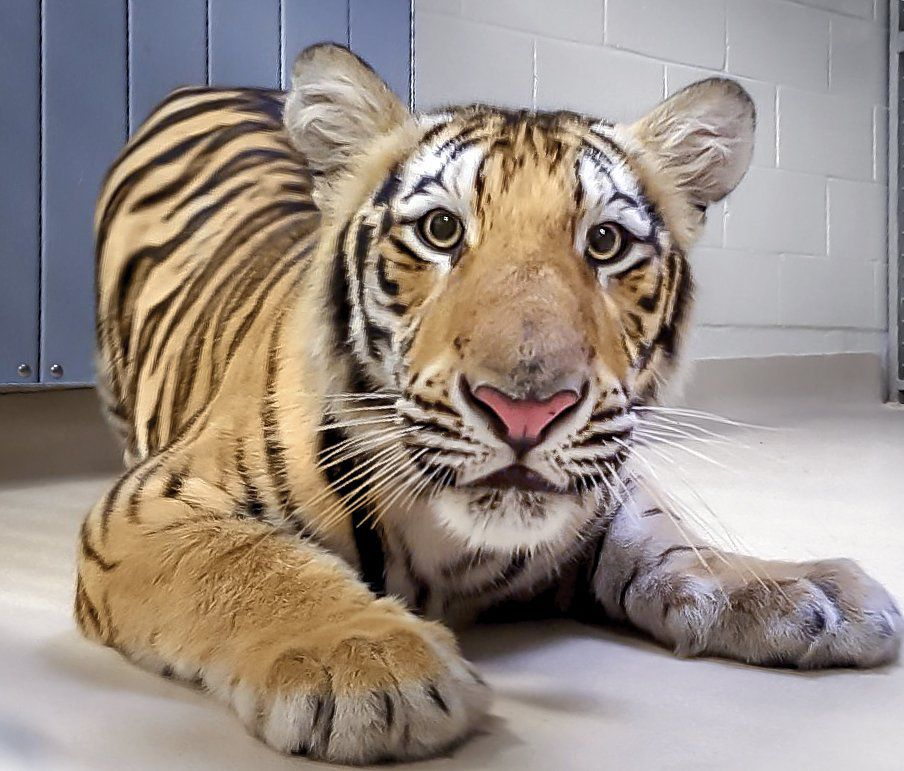Tiger: (81, 49, 867, 771)
